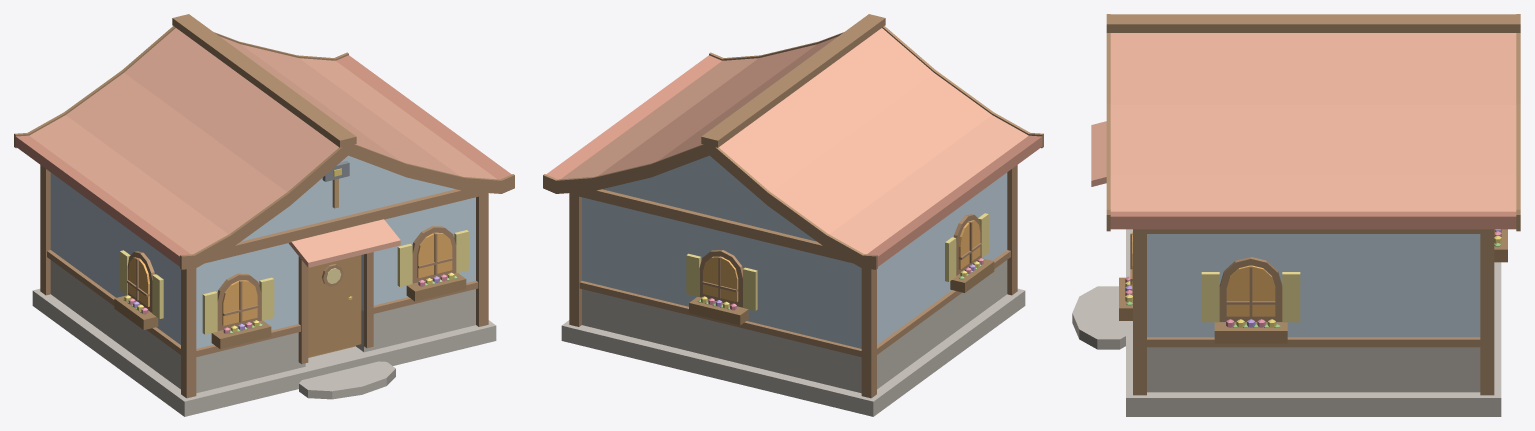
Rendered from forge_sky.glb.
3 renders of one model, left to right at view 1: azimuth 30°, elevation 25°; view 2: azimuth 150°, elevation 25°; view 3: azimuth 270°, elevation 25°, orthographic. The views are drawn at different scales.
Visible parts, largest first — view 1: Player; view 2: Player; view 3: Player.
Boxes of the visible parts, x1,y1,x2,y2 form: Player: (14, 14, 514, 416); Player: (543, 14, 1043, 416); Player: (1072, 14, 1520, 416).
Bounding box in the file's own units: 6.84 × 4.82 × 6.45.
